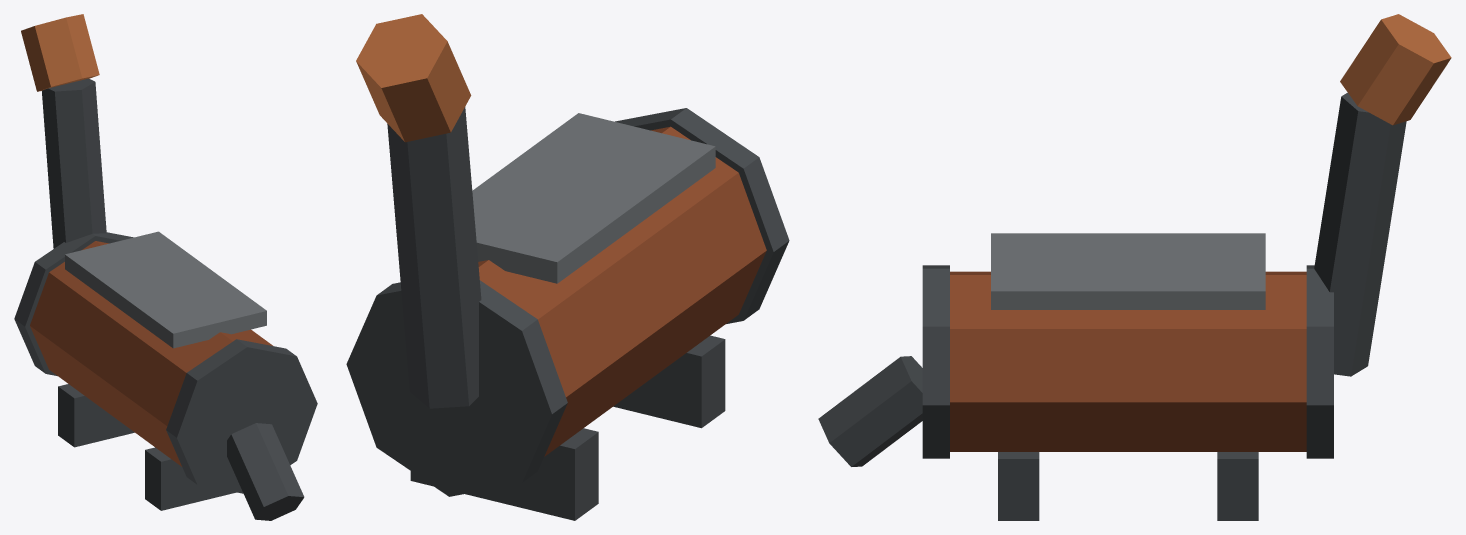
Rendered from upg_muffler.glb.
3 renders of one model, left to right at view 1: azimuth 30°, elevation 25°; view 2: azimuth 150°, elevation 25°; view 3: azimuth 270°, elevation 25°, orthographic. The views are drawn at different scales.
Visible parts, largest first — view 1: muffler; view 2: muffler; view 3: muffler.
Part boxes in pixels (box(x1,y1,x2,y2)): muffler: box(14, 14, 317, 520); muffler: box(346, 14, 789, 520); muffler: box(818, 14, 1451, 520).
Bounding box in the file's own units: 0.3 × 0.7509 × 0.9235.
